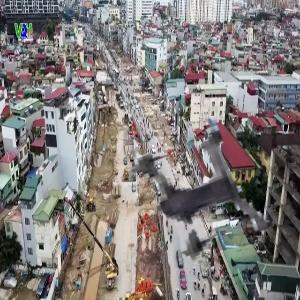drone: (103, 111, 284, 292)
